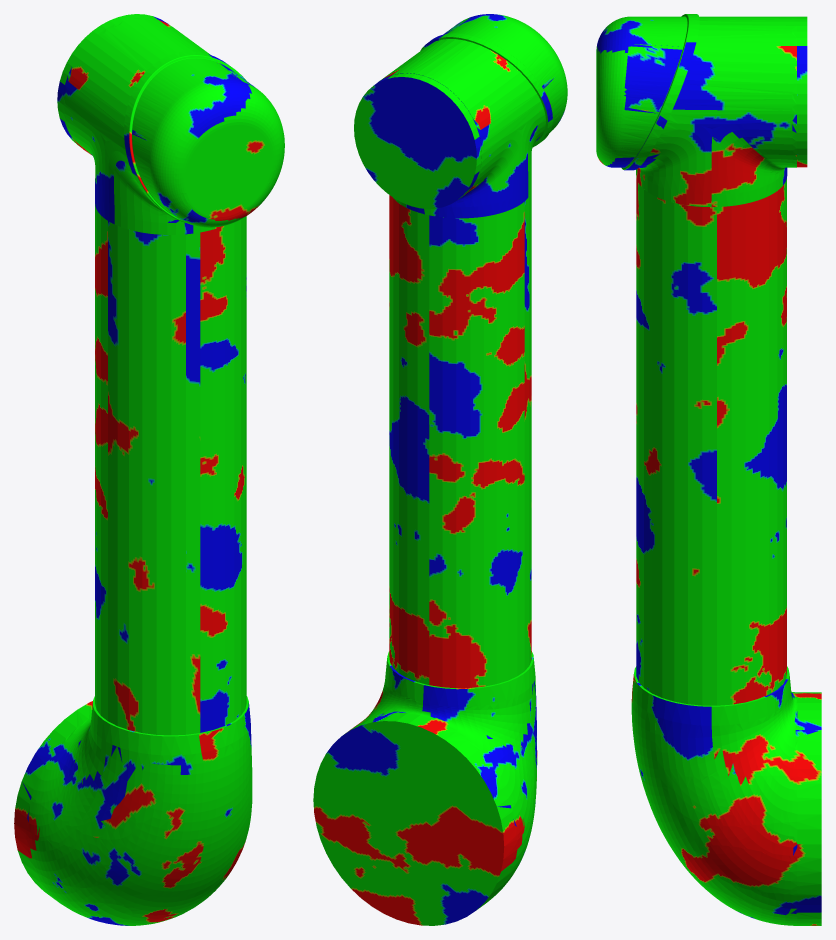
Rendered from forearm.dae.
3 renders of one model, left to right at view 1: azimuth 30°, elevation 25°; view 2: azimuth 150°, elevation 25°; view 3: azimuth 270°, elevation 25°, orthographic. The views are drawn at different scales.
Parts seen in each view (by area): view 1: forearm; view 2: forearm; view 3: forearm.
Boxes of the visible parts, x1,y1,x2,y2 form: forearm: [14, 14, 284, 925]; forearm: [313, 14, 567, 925]; forearm: [596, 14, 821, 925].
Bounding box in the file's own units: 0.116 × 0.1117 × 0.4892.
